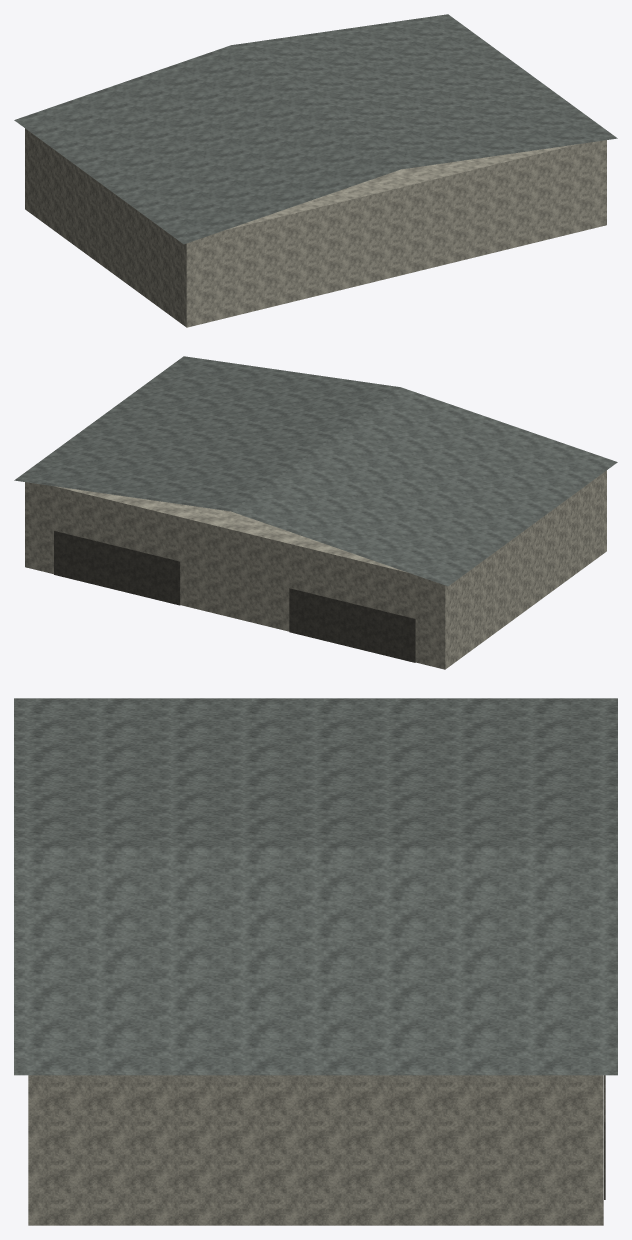
File: Strategic_Hangar.fbx
The picture shows the model from 3 angles, top to bottom: view 1: azimuth 30°, elevation 25°; view 2: azimuth 150°, elevation 25°; view 3: azimuth 270°, elevation 25°; orthographic projection. The views are drawn at different scales.
Visible parts, largest first — view 1: Strategic_Hangar; view 2: Strategic_Hangar; view 3: Strategic_Hangar.
Part boxes in pixels (x1,y1,x2,y2): Strategic_Hangar: (14, 14, 617, 327); Strategic_Hangar: (14, 356, 617, 669); Strategic_Hangar: (14, 698, 617, 1225).
Bounding box in the file's own units: 6200 × 1500 × 4200.
